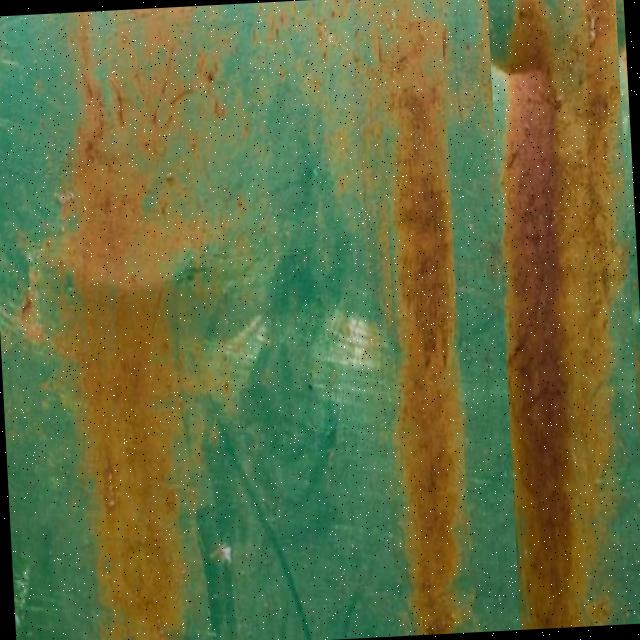Corrosion: (0, 0, 640, 640), (485, 0, 592, 629), (372, 16, 478, 635)
